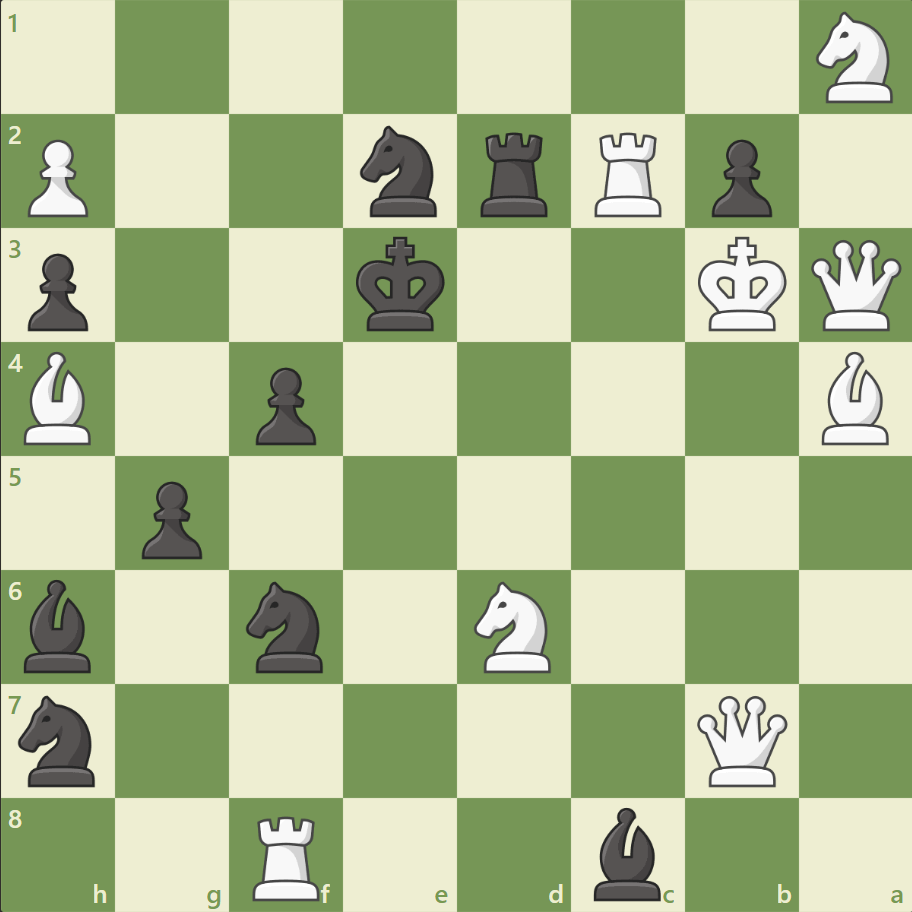B: (812, 347, 896, 449), (17, 347, 101, 449)
K: (692, 231, 792, 339)
N: (806, 7, 903, 110), (465, 575, 562, 677)
P: (20, 132, 95, 223)
Q: (691, 690, 790, 789), (805, 236, 904, 335)
R: (246, 806, 329, 904), (587, 125, 670, 222)
b: (585, 801, 669, 904), (17, 574, 101, 676)
k: (351, 231, 451, 339)
n: (351, 121, 449, 223), (11, 688, 108, 791), (238, 575, 335, 677)
p: (133, 473, 208, 564), (247, 359, 322, 450), (20, 246, 95, 337), (701, 132, 776, 223)
r: (473, 125, 556, 222)
